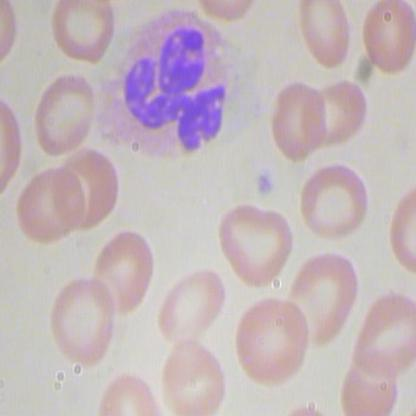RBC: (214, 192, 297, 296), (280, 250, 362, 354), (235, 296, 312, 392), (296, 154, 373, 250), (154, 257, 230, 352), (89, 224, 160, 320), (346, 283, 415, 381), (16, 158, 88, 247), (153, 332, 229, 415), (28, 70, 101, 156), (49, 276, 117, 366), (46, 1, 116, 71), (270, 83, 330, 162), (310, 75, 370, 154), (356, 1, 415, 79), (294, 1, 355, 75)
WBC: (93, 10, 260, 170)
